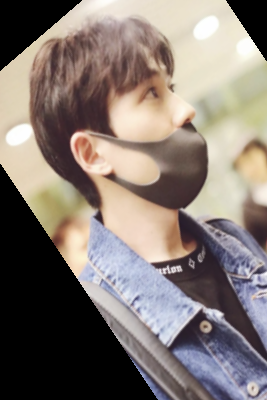mask_weared_incorrect: (21, 21, 226, 220)
